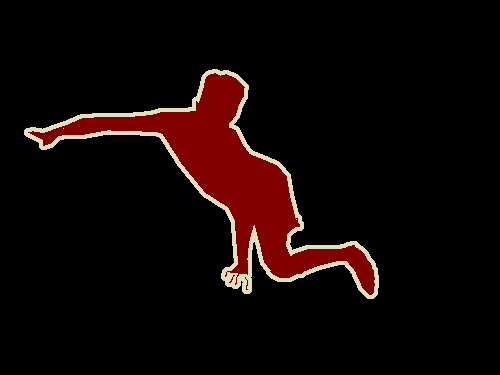person: (22, 70, 380, 300)
person/foot: (346, 246, 381, 299)
person/hand: (223, 263, 251, 294), (26, 128, 58, 150)
person/head: (194, 71, 247, 140)
